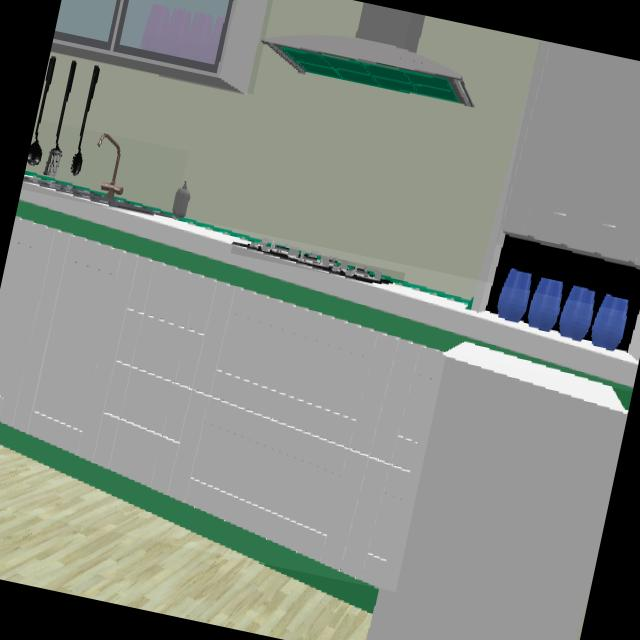cabinet: (0, 217, 444, 586), (501, 41, 640, 271), (50, 0, 272, 93)
countertop: (15, 183, 638, 388)
sink: (22, 133, 174, 218)
stove: (232, 242, 402, 285)
